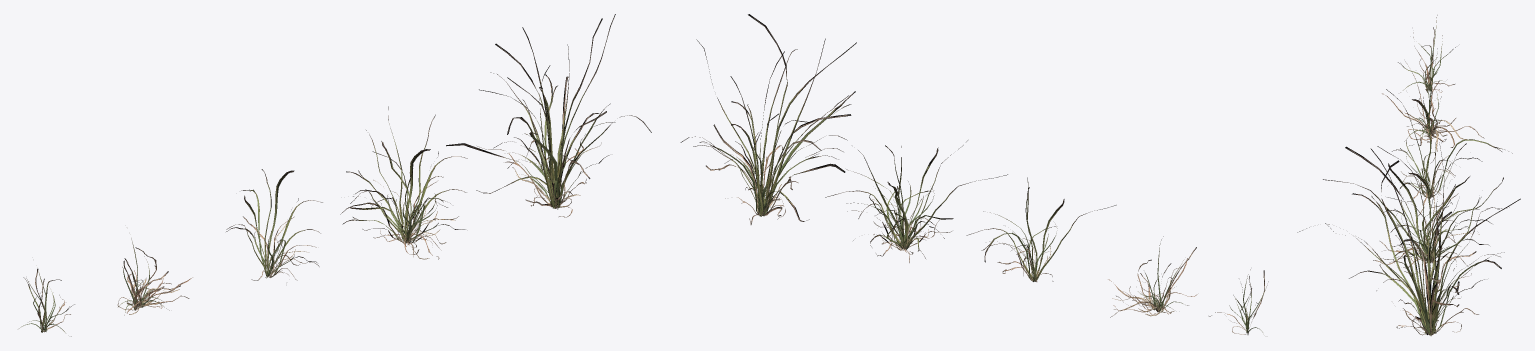
Rendered from grass_medium_02.glb.
3 renders of one model, left to right at view 1: azimuth 30°, elevation 25°; view 2: azimuth 150°, elevation 25°; view 3: azimuth 270°, elevation 25°, orthographic. The views are drawn at different scales.
Visible parts, largest first — view 1: grass_medium_02_e, grass_medium_02_d, grass_medium_02_c, grass_medium_02_b, grass_medium_02_a; view 2: grass_medium_02_e, grass_medium_02_d, grass_medium_02_c, grass_medium_02_b, grass_medium_02_a; view 3: grass_medium_02_e, grass_medium_02_d, grass_medium_02_c, grass_medium_02_b, grass_medium_02_a.
Part boxes in pixels (x1,y1,x2,y2): grass_medium_02_e: [446, 14, 651, 217]; grass_medium_02_d: [340, 106, 467, 259]; grass_medium_02_c: [226, 169, 322, 280]; grass_medium_02_b: [117, 238, 192, 315]; grass_medium_02_a: [19, 268, 74, 336]; grass_medium_02_e: [680, 14, 856, 224]; grass_medium_02_d: [825, 140, 1007, 262]; grass_medium_02_c: [966, 177, 1116, 281]; grass_medium_02_b: [1108, 236, 1197, 317]; grass_medium_02_a: [1209, 269, 1268, 334]; grass_medium_02_e: [1297, 142, 1520, 335]; grass_medium_02_d: [1323, 143, 1509, 274]; grass_medium_02_c: [1386, 89, 1512, 215]; grass_medium_02_b: [1382, 48, 1484, 151]; grass_medium_02_a: [1398, 15, 1455, 92].
Size of the model in its own units: 1.31 by 0.4053 by 0.4332.
1 material, 1 textured.
